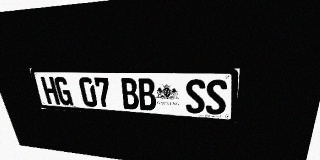0: (78, 77, 98, 107)
7: (93, 77, 113, 108)
B: (137, 78, 157, 111), (120, 78, 140, 110)
G: (53, 77, 74, 106)
H: (40, 77, 60, 105)
S: (206, 79, 227, 115), (185, 79, 205, 114)
